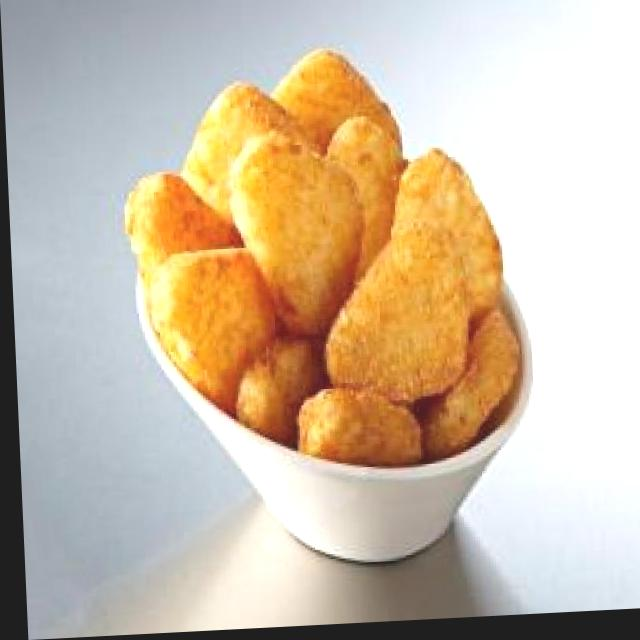triangle_hash_brown: (122, 39, 522, 473)
